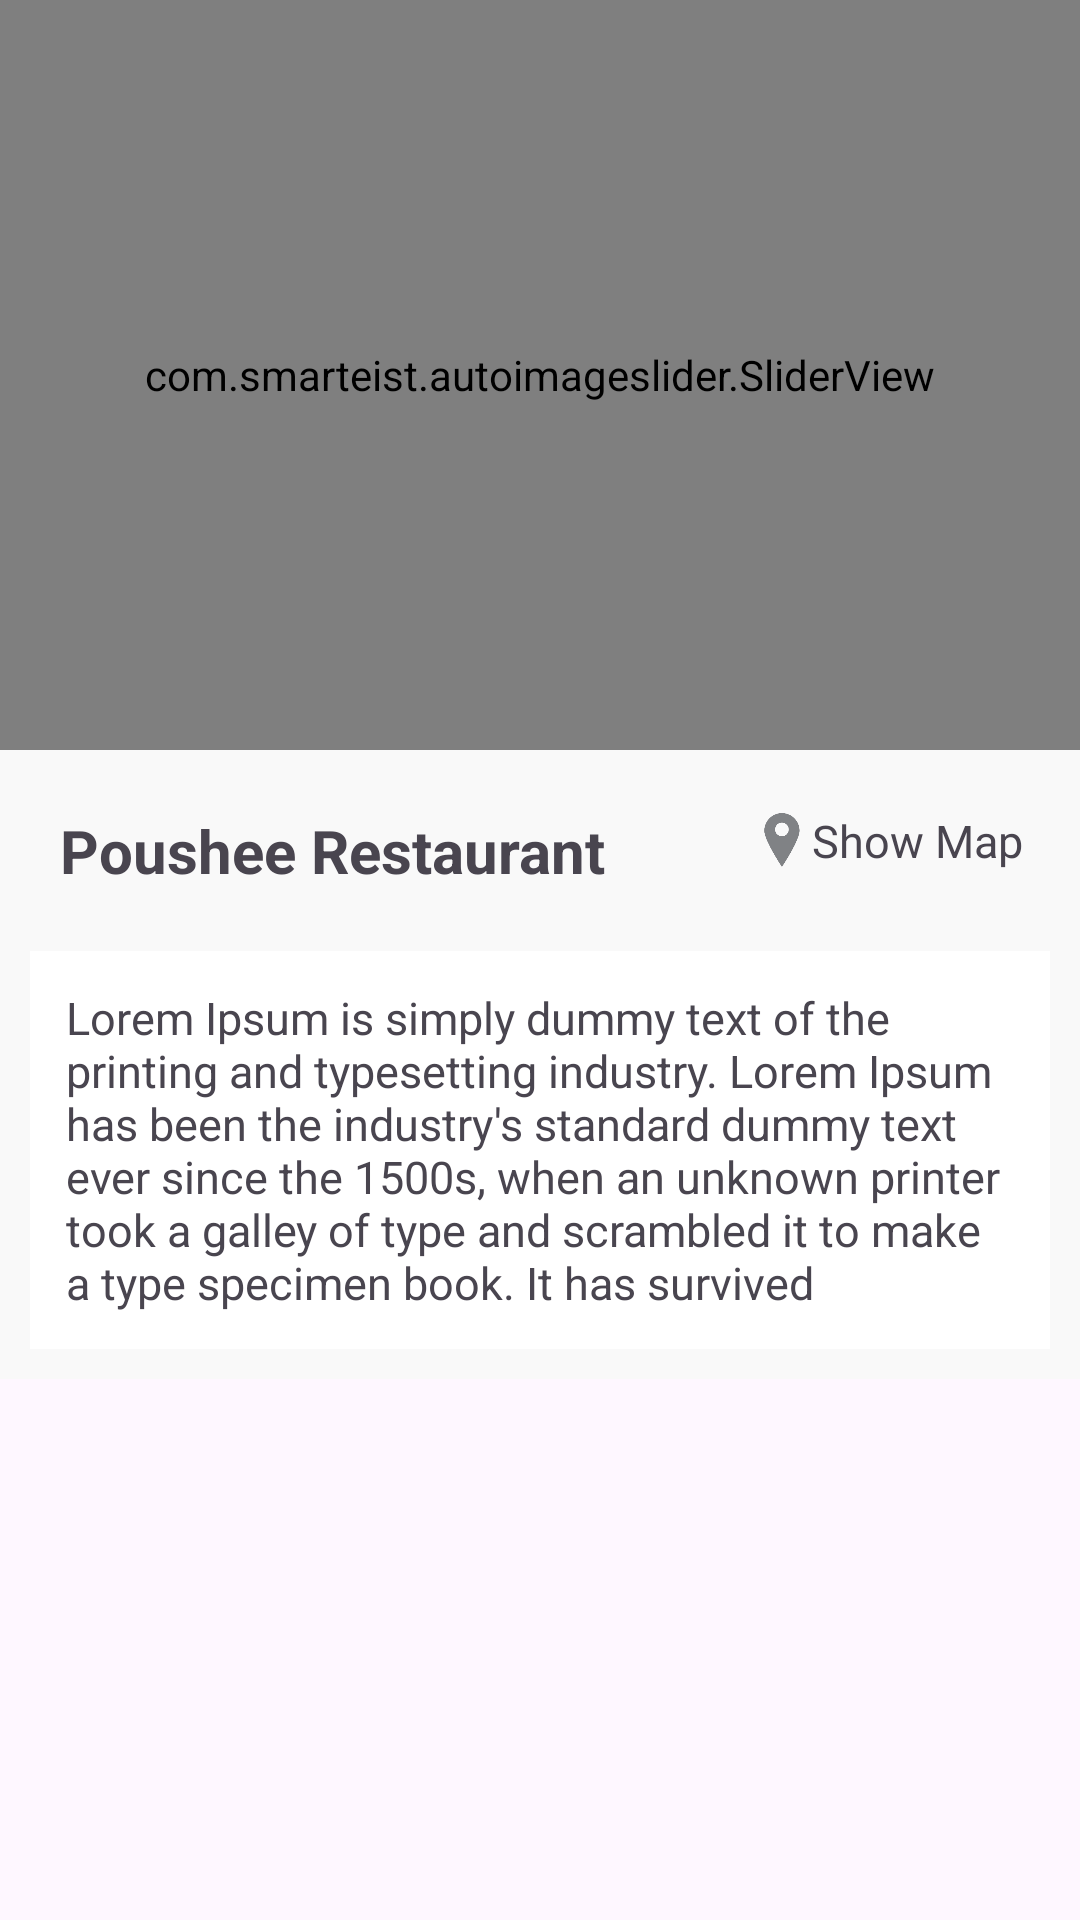

Screen size 1080x1920. Icon name, then its box in pixels as [left=x1, top=y1, right=x2, bottom=y2]:
maploc: [left=764, top=813, right=800, bottom=867]
